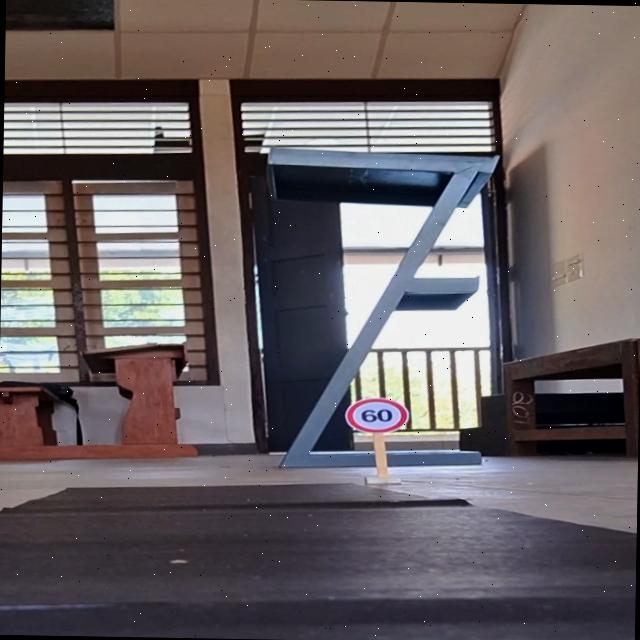Speed60: (342, 396, 410, 434)
